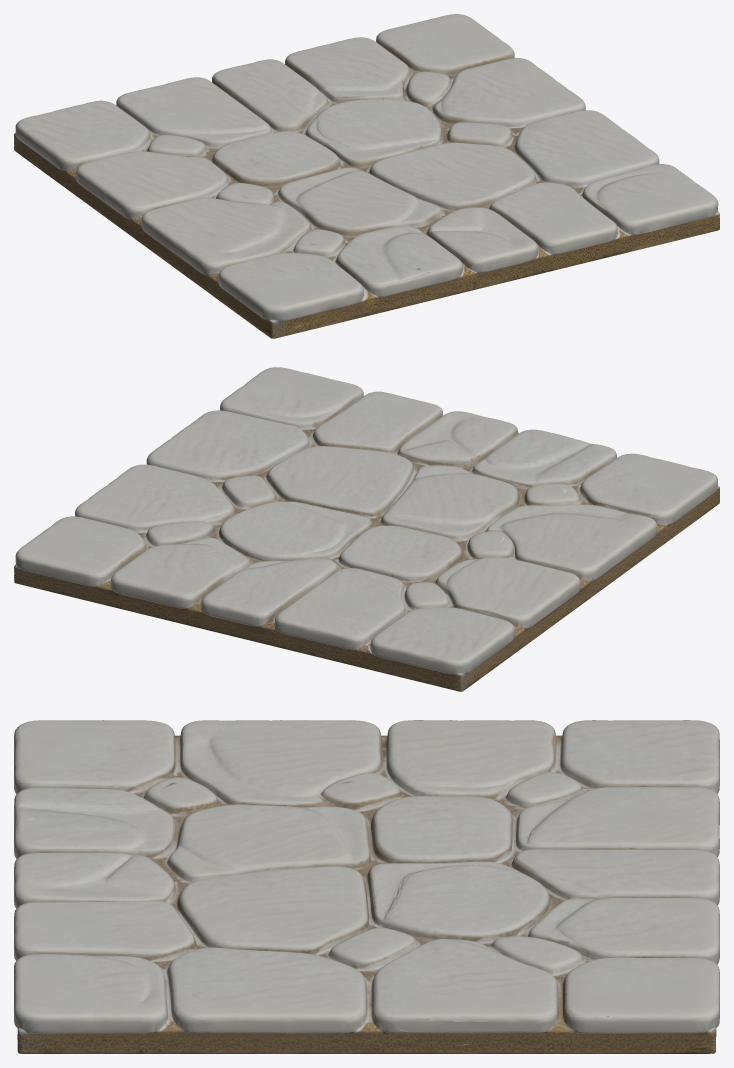
The model's file is The_Limestone_Paving_Module_opt.glb.
The picture shows the model from 3 angles, top to bottom: view 1: azimuth 30°, elevation 25°; view 2: azimuth 150°, elevation 25°; view 3: azimuth 270°, elevation 25°; orthographic projection. The views are drawn at different scales.
Visible parts, largest first — view 1: material; view 2: material; view 3: material.
Boxes of the visible parts, box(x1,y1,x2,y2) form: material: box(14, 14, 719, 338); material: box(14, 367, 719, 691); material: box(14, 720, 719, 1053).
Size of the model in its own units: 0.8598 by 0.0532 by 0.8597.
1 material, 1 textured.
